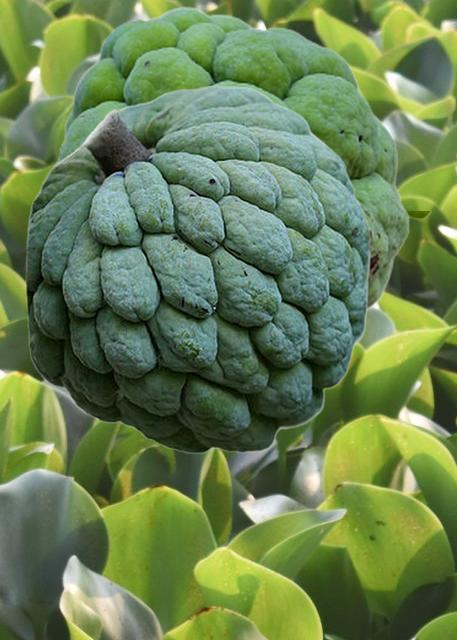atis: (25, 85, 370, 453), (50, 5, 409, 313)
